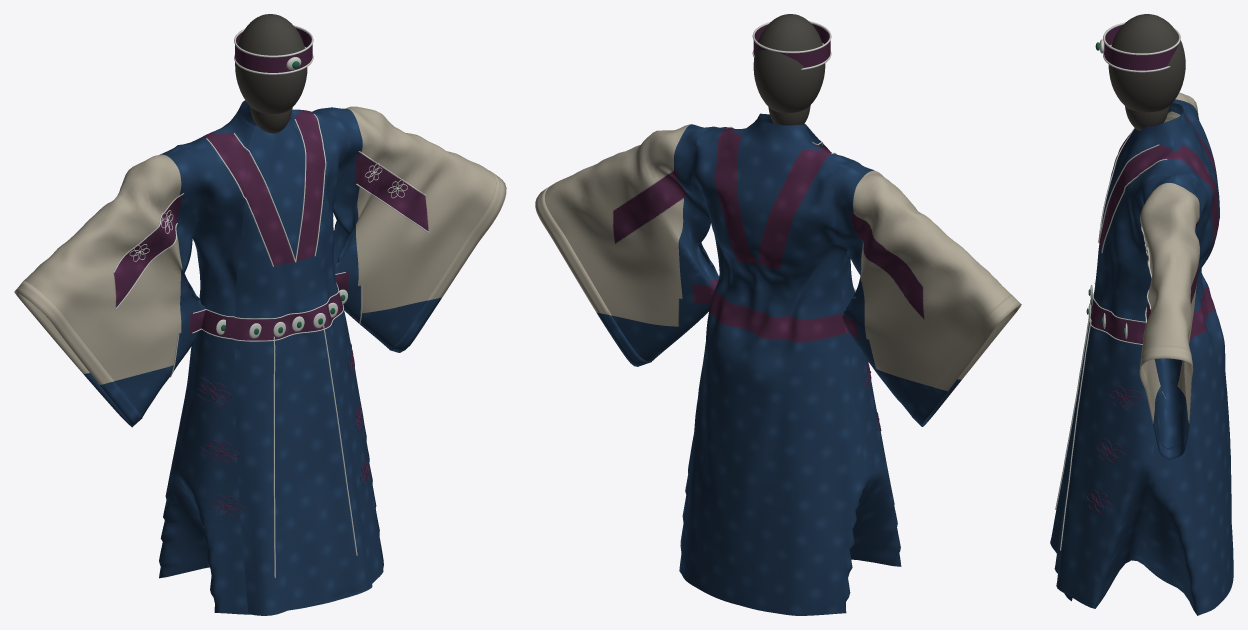
3 views of the same model, side by side, from view 1: azimuth 30°, elevation 25°; view 2: azimuth 150°, elevation 25°; view 3: azimuth 270°, elevation 25° (orthographic).
Visible parts, largest first — view 1: SM_CL00125; view 2: SM_CL00125; view 3: SM_CL00125.
Part boxes in pixels (box(x1,y1,x2,y2)): SM_CL00125: box(14, 14, 506, 615); SM_CL00125: box(535, 14, 1021, 615); SM_CL00125: box(1050, 14, 1233, 615).
Size of the model in its own units: 1.59 by 1.79 by 0.5324.
Materials: 6 (3 with a texture image).
